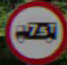Heavy Vehicles: (6, 5, 62, 58)
